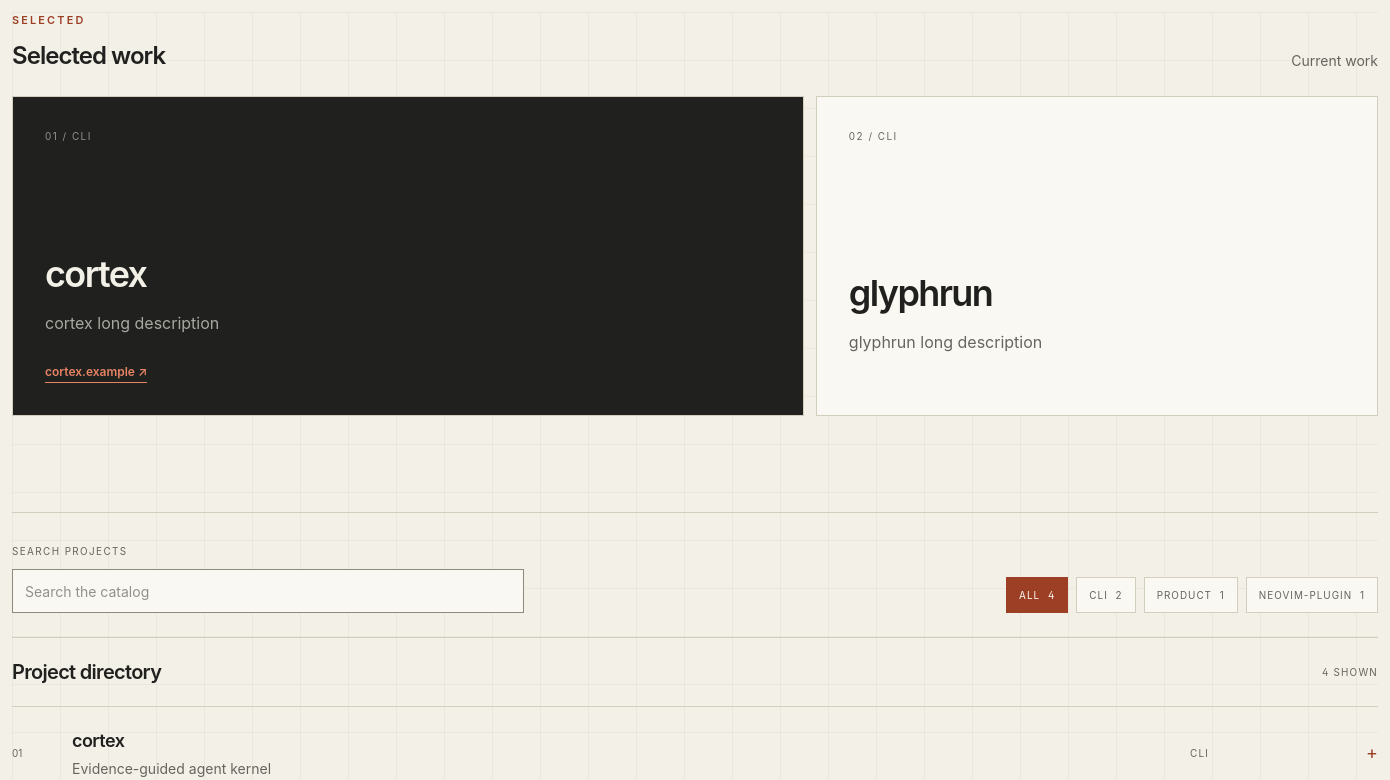
Test: ProjectsView › combines category and text filters
This screenshot has width=1390, height=780.
Click the button "cli 2" at (1106, 595), box [1076,577,1136,613]
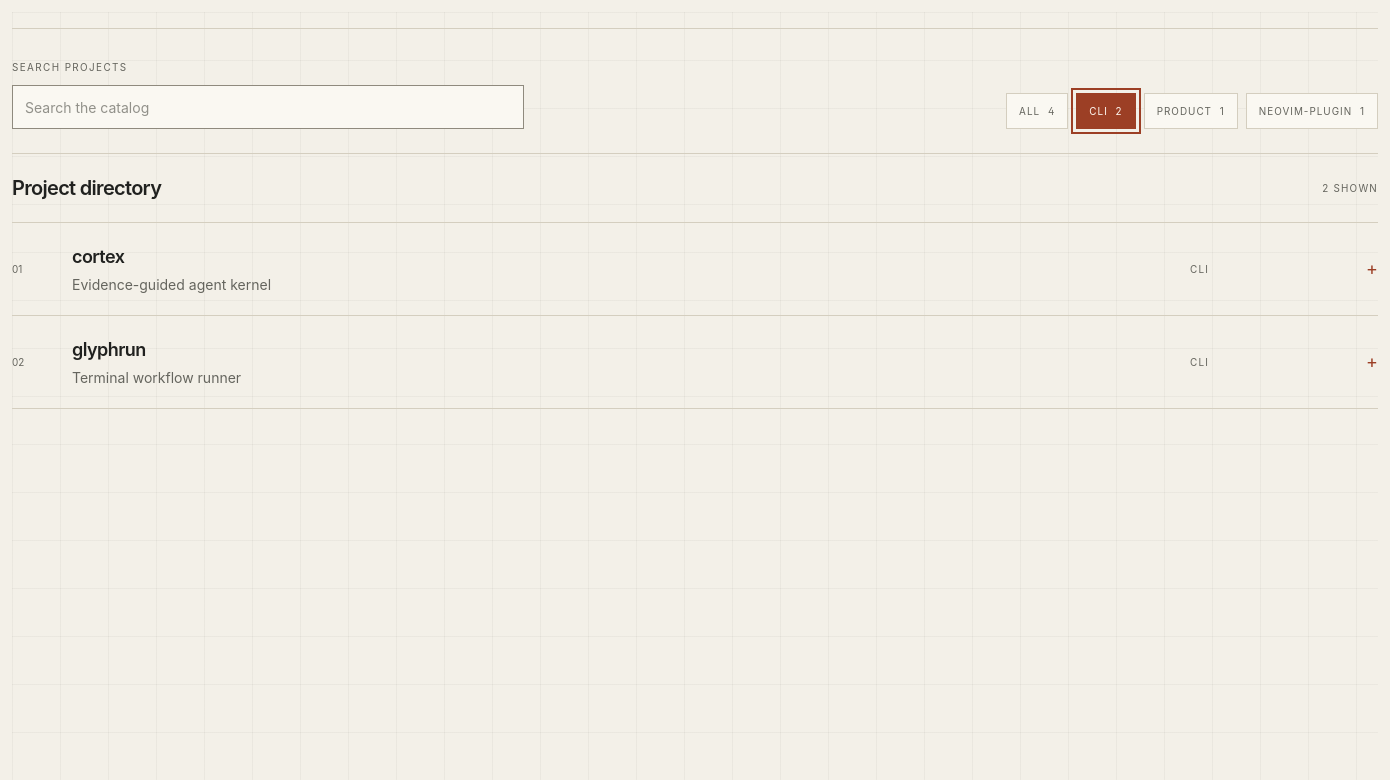
Expected: the element showing "01 cortex Evidence-guided agent kernel cli +" is shown, [12,223,1378,316]
Expected: the text "2 shown" is shown, [1322,181,1378,196]
Type "terminal" into the search field at (268, 107), box [12,85,524,129]
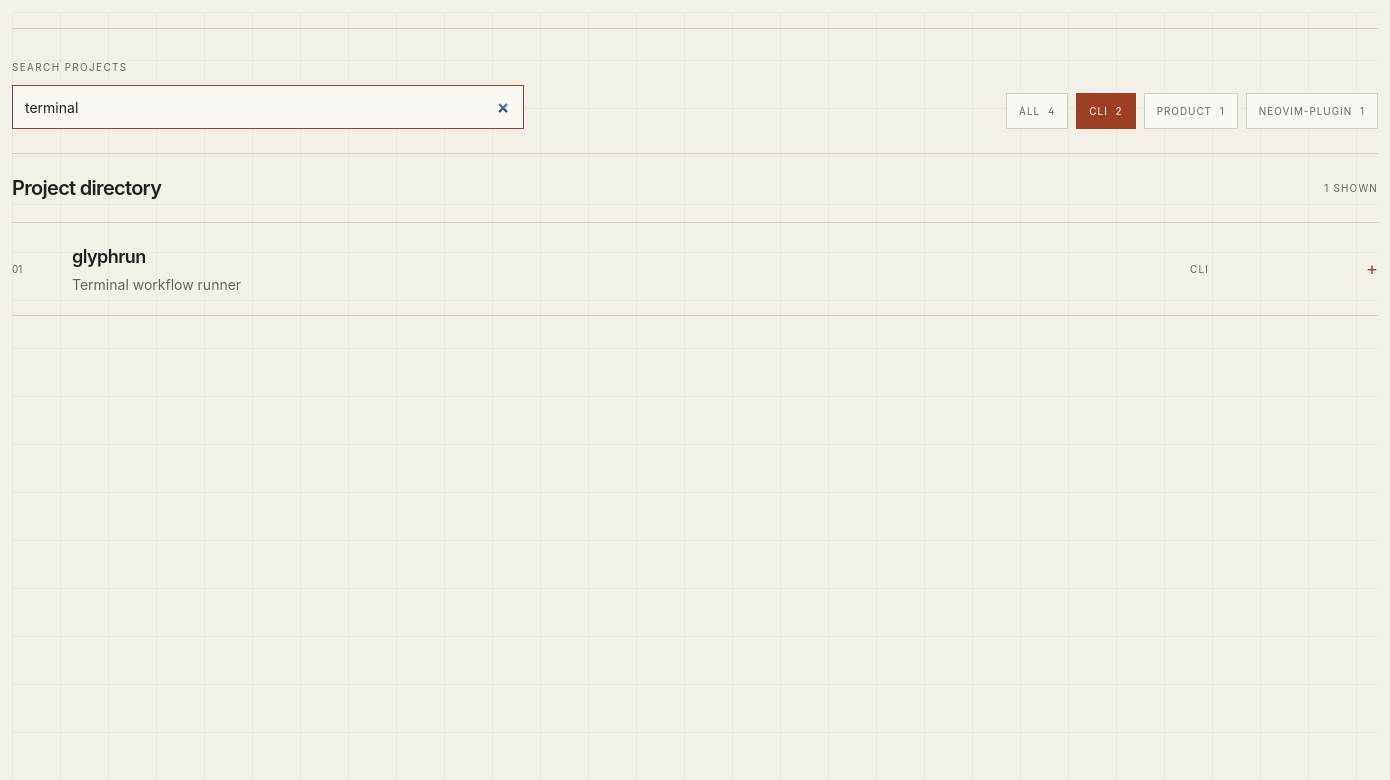
Expected: the text "1 shown" is shown, [1324,181,1378,196]
